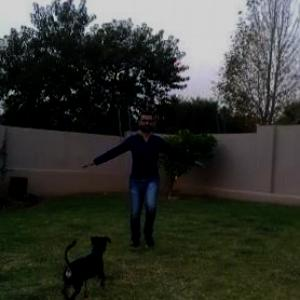land: (85, 106, 219, 268)
